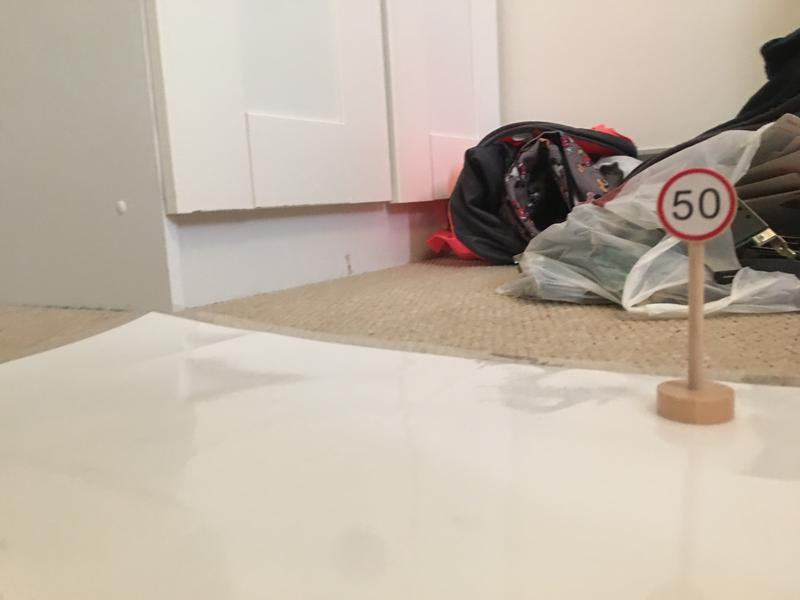Traffic_Sign_50: (658, 172, 733, 237)
